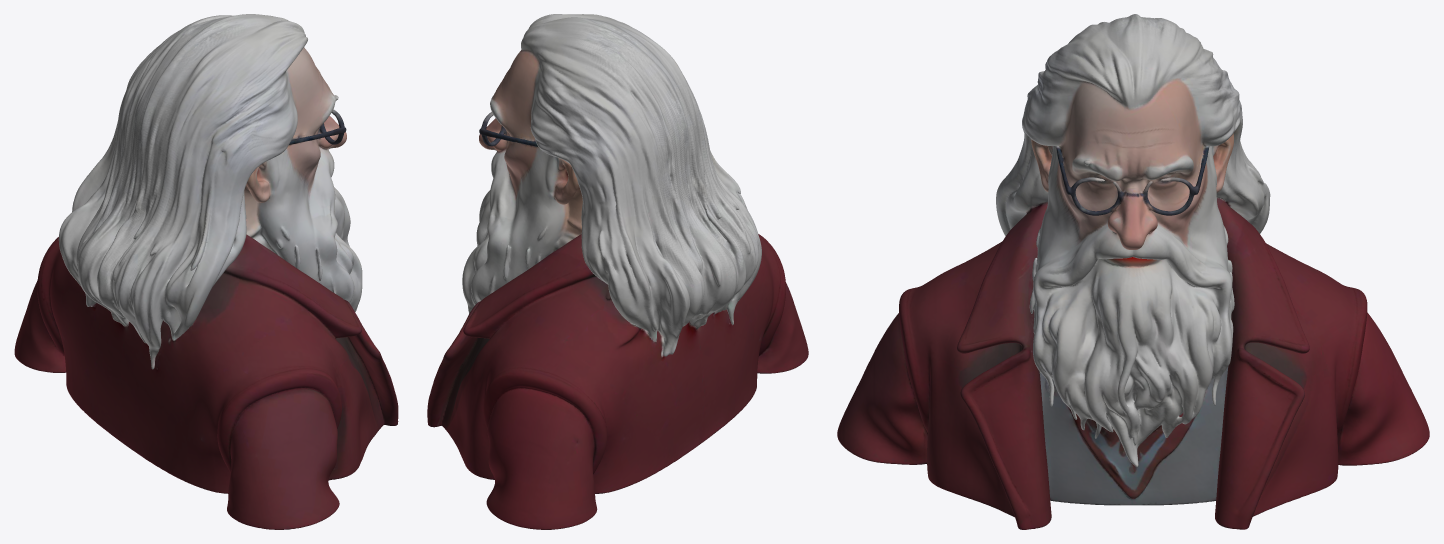
The model's file is detailed_realistic_model_albusdumbledore_19.glb.
The picture shows the model from 3 angles, left to right: view 1: azimuth 30°, elevation 25°; view 2: azimuth 150°, elevation 25°; view 3: azimuth 270°, elevation 25°; orthographic projection. The views are drawn at different scales.
Parts seen in each view (by area): view 1: tripo_node_2d6a980c-b353-4b8d-938b-63883f48f001; view 2: tripo_node_2d6a980c-b353-4b8d-938b-63883f48f001; view 3: tripo_node_2d6a980c-b353-4b8d-938b-63883f48f001.
Part boxes in pixels (bbox=[...]): tripo_node_2d6a980c-b353-4b8d-938b-63883f48f001: bbox=[14, 14, 398, 529]; tripo_node_2d6a980c-b353-4b8d-938b-63883f48f001: bbox=[427, 14, 808, 529]; tripo_node_2d6a980c-b353-4b8d-938b-63883f48f001: bbox=[837, 14, 1429, 529].
Size of the model in its own units: 0.5792 by 0.8264 by 1.
Materials: 1 (1 with a texture image).
